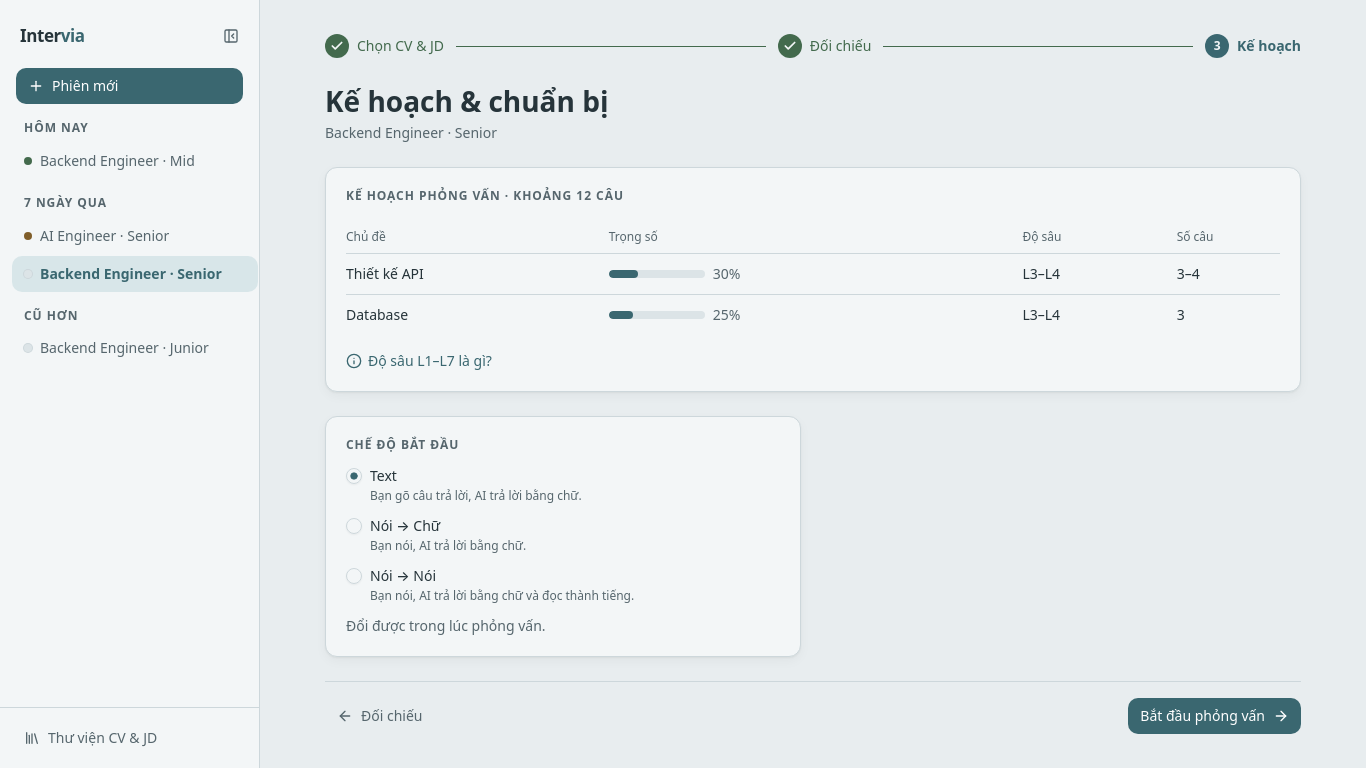
Test: SessionPlanPage (UI-5.4) › explains depth L1–L7 on demand
Check: the text "Tìm và sửa lỗi" is not shown
Click the button "Độ sâu L1–L7 là gì?".
click(419, 361)  # box top-left (346, 351), bottom-right (492, 371)
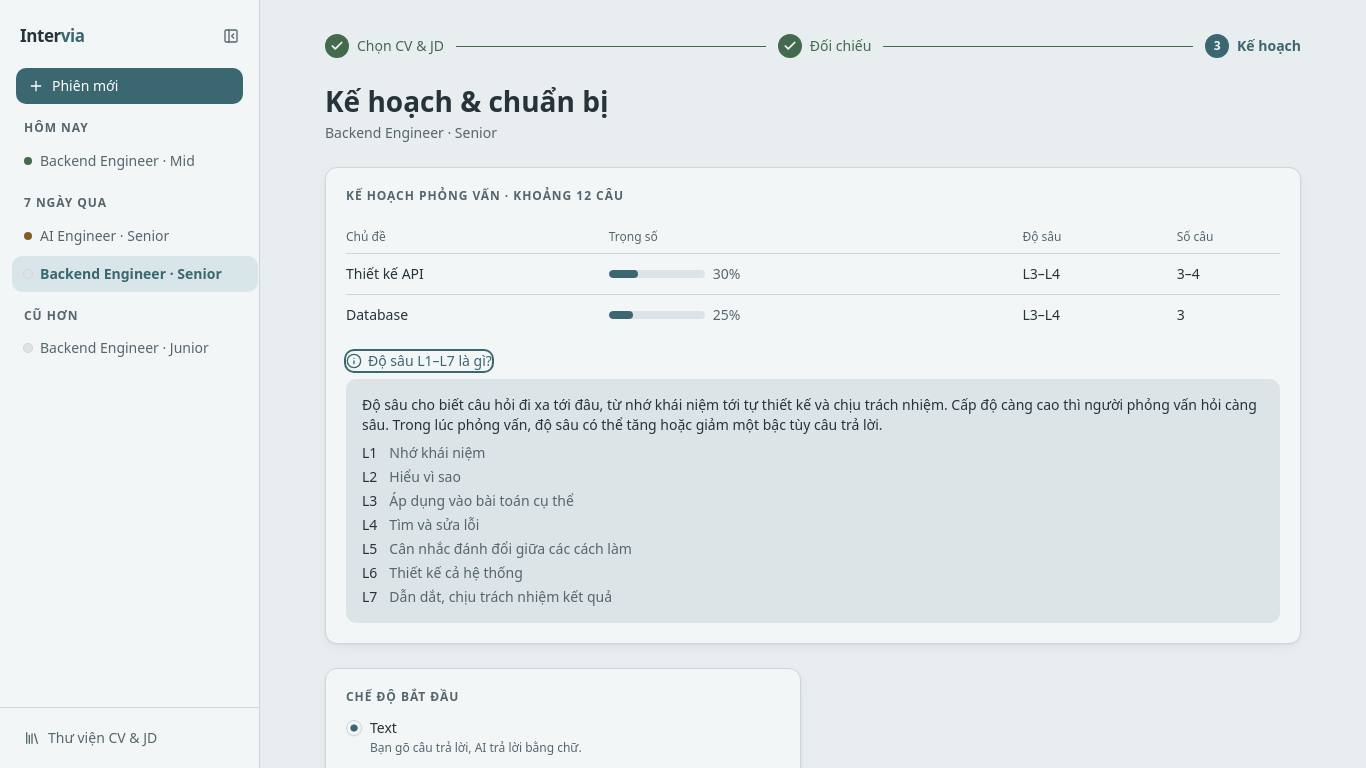
Check: the button "Độ sâu L1–L7 là gì?" is expanded, box top-left (346, 351), bottom-right (492, 371)
Check: the text "Tìm và sửa lỗi" is shown, box top-left (389, 515), bottom-right (480, 534)
